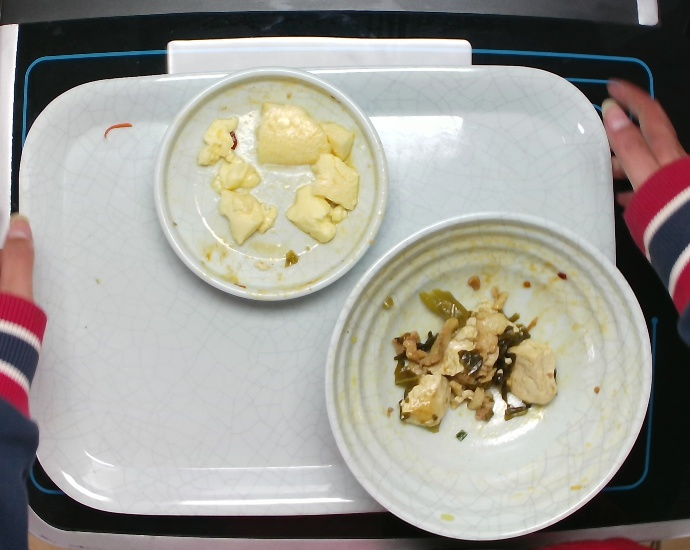JYsf-Da_Tang_Wan: (319, 205, 656, 544)
JYsf-Xiao_Yuan_Pan: (148, 62, 393, 308)
